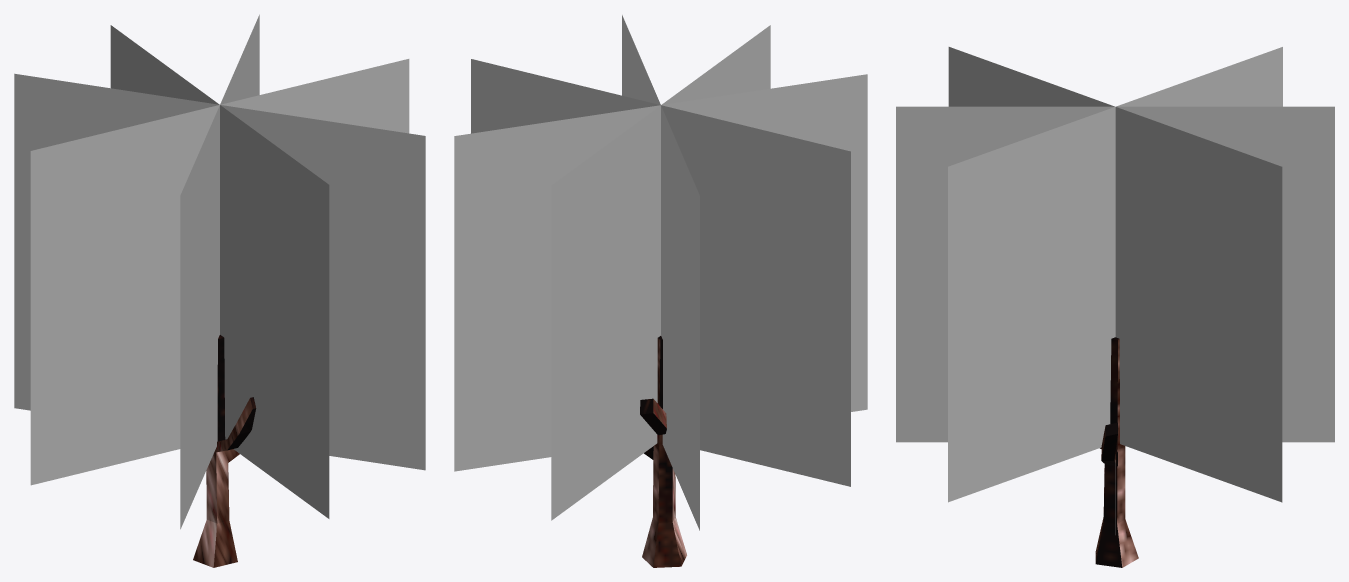
File: Sakura Tree 2.fbx
3 renders of one model, left to right at view 1: azimuth 30°, elevation 25°; view 2: azimuth 150°, elevation 25°; view 3: azimuth 270°, elevation 25°, orthographic.
Parts seen in each view (by area): view 1: Texture 5, Trunk.004; view 2: Texture 5, Trunk.004; view 3: Texture 5, Trunk.004.
Part boxes in pixels (box(x1,y1,x2,y2)): Texture 5: box(14, 14, 425, 529); Trunk.004: box(193, 335, 256, 567); Texture 5: box(454, 15, 867, 530); Trunk.004: box(640, 336, 686, 567); Texture 5: box(896, 47, 1334, 534); Trunk.004: box(1095, 337, 1138, 567).
Size of the model in its own units: 3709 by 4230 by 3709.
